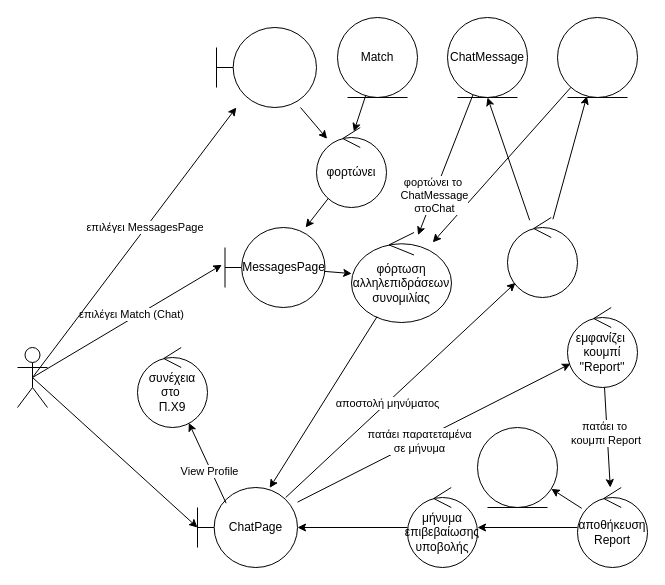
The diagram is 665 pixels wide and 585 high, and some of its shapes have lost their labels. The box of each missing label's shape, as (x1, y1, x2, y2) in pixels:
Chat: (556, 16, 638, 98)
MessageReport: (476, 426, 558, 508)
NavigationBar: (216, 26, 316, 108)
User: (16, 346, 48, 408)
αποθηκεύει: (506, 216, 578, 298)
